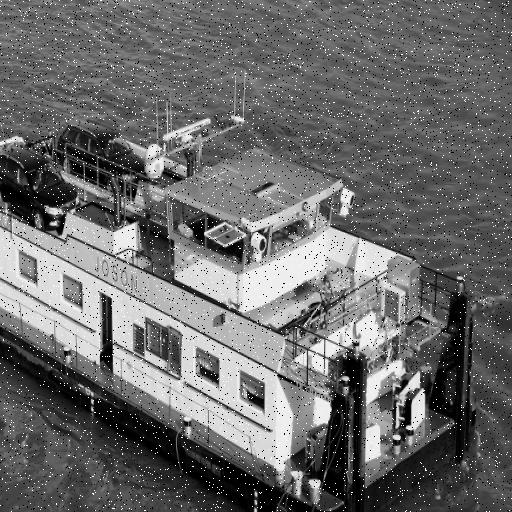tugboat: (1, 68, 487, 512)
